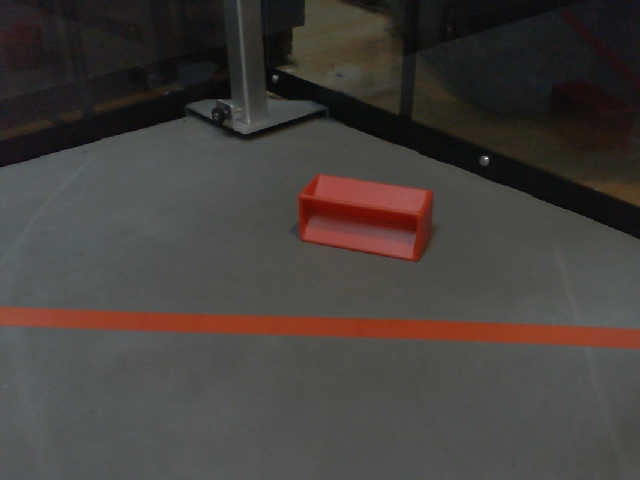RedSample: (297, 172, 436, 263)
